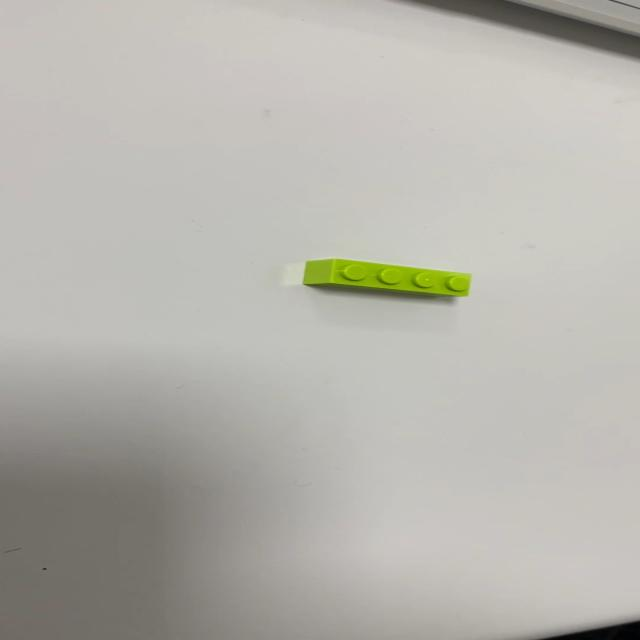C4x1x1: (300, 256, 472, 298)
